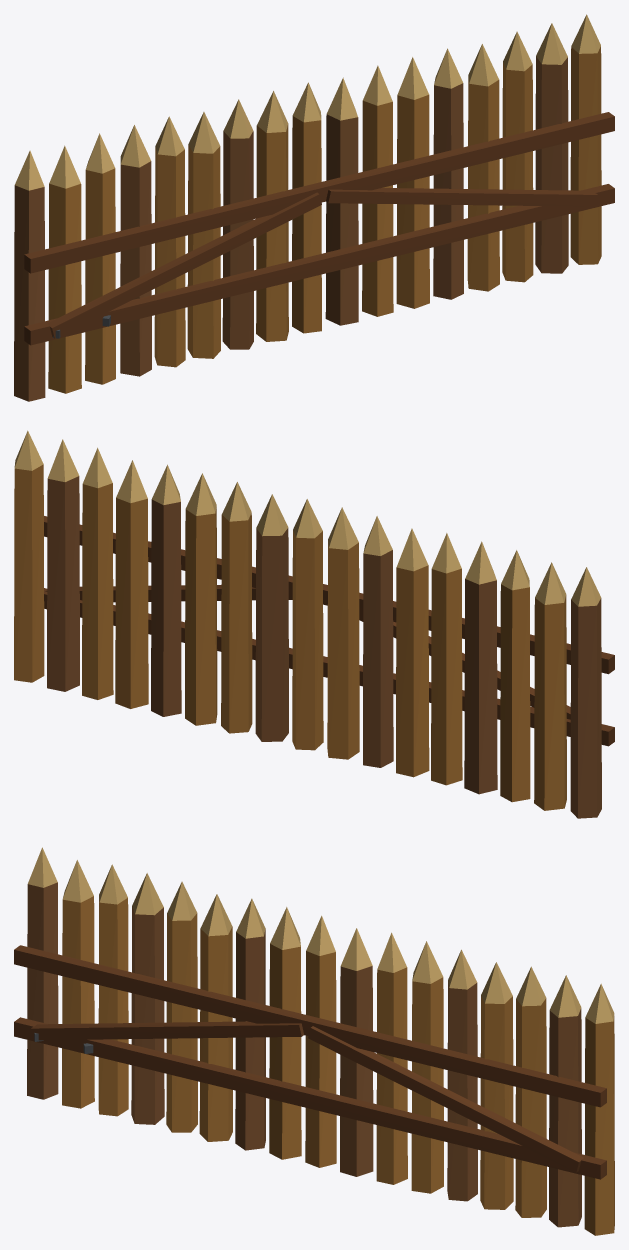
The picture shows the model from 3 angles, top to bottom: view 1: azimuth 30°, elevation 25°; view 2: azimuth 150°, elevation 25°; view 3: azimuth 330°, elevation 25°; orthographic projection.
Visible parts, largest first — view 1: WK_W03_LOD2_Compact; view 2: WK_W03_LOD2_Compact; view 3: WK_W03_LOD2_Compact.
Boxes of the visible parts, x1,y1,x2,y2 form: WK_W03_LOD2_Compact: (14, 14, 614, 401); WK_W03_LOD2_Compact: (14, 430, 614, 818); WK_W03_LOD2_Compact: (14, 847, 614, 1235).
Size of the model in its own units: 8 by 3.2 by 0.65.
